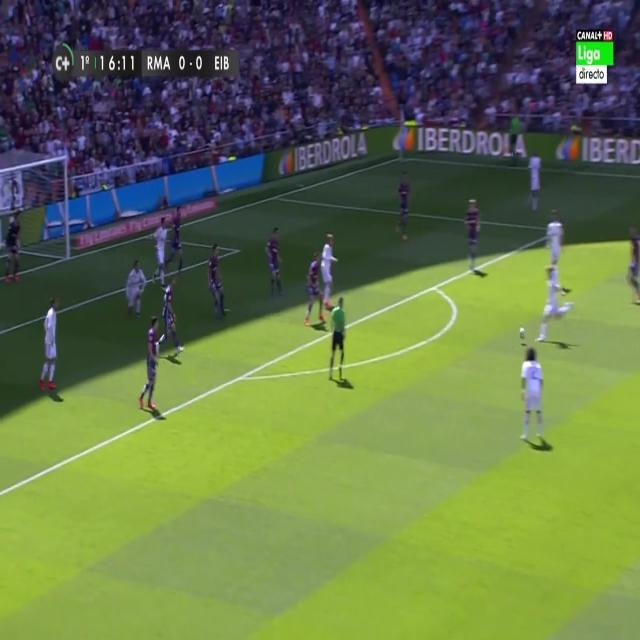Ball: (517, 323, 527, 343)
Goalkeeper: (2, 208, 25, 287)
Player: (516, 346, 548, 449), (538, 265, 574, 346), (34, 291, 62, 394), (135, 314, 163, 417), (204, 238, 231, 319), (158, 280, 186, 358), (300, 250, 325, 330), (262, 223, 286, 301), (167, 200, 187, 280), (122, 260, 147, 322), (462, 196, 482, 272), (320, 231, 339, 310), (542, 208, 565, 272), (393, 166, 412, 242), (150, 216, 169, 288), (624, 222, 640, 306), (528, 149, 546, 213)
Referee: (323, 293, 348, 389), (508, 112, 521, 168)
